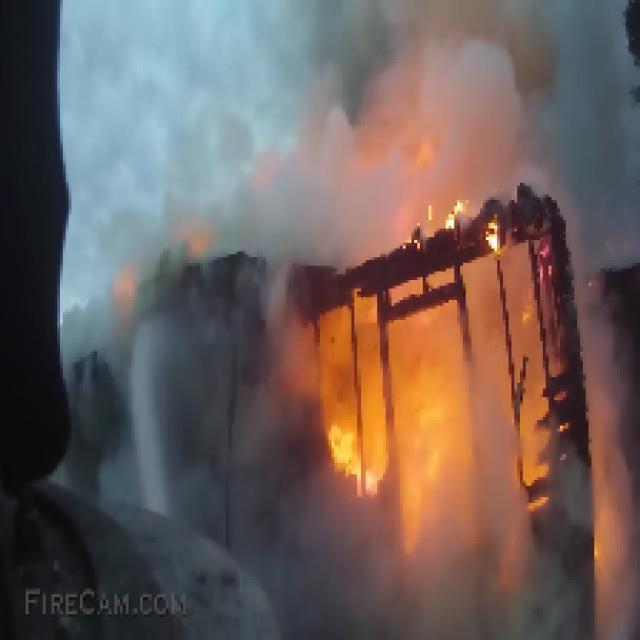Fire: (317, 203, 597, 563)
Smoke: (254, 337, 637, 640), (243, 2, 632, 274)
